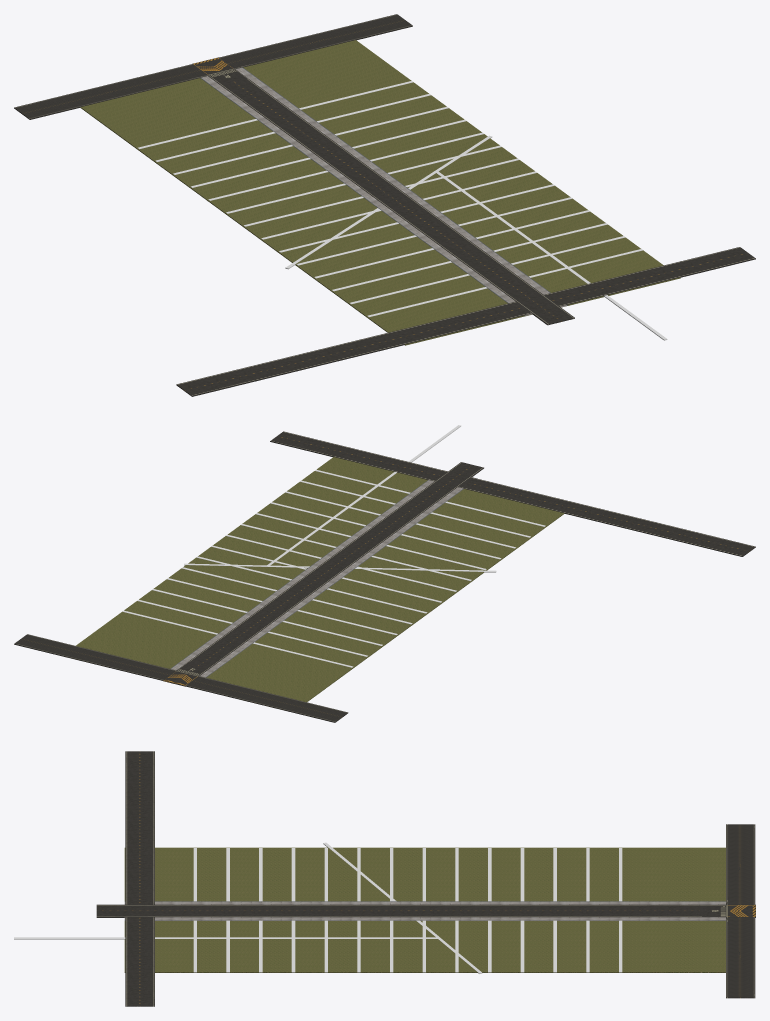
Rendered from M_sceneA-B_airport.fbx.
3 views of the same model, one above another, from view 1: azimuth 30°, elevation 25°; view 2: azimuth 150°, elevation 25°; view 3: azimuth 270°, elevation 25° (orthographic). The views are drawn at different scales.
Visible parts, largest first — view 1: 立方体.003, 立方体, 立方体.010, 立方体.009, 立方体.001, 立方体.007, 立方体.004, 立方体.006, 立方体.005; view 2: 立方体.003, 立方体.010, 立方体, 立方体.009, 立方体.001, 立方体.007, 立方体.004, 立方体.006, 立方体.005; view 3: 立方体.003, 立方体, 立方体.010, 立方体.009, 立方体.001, 立方体.007, 立方体.004, 立方体.006, 立方体.005.
Boxes of the visible parts, x1,y1,x2,y2 form: 立方体.003: [80, 40, 680, 345]; 立方体: [222, 79, 574, 325]; 立方体.010: [176, 247, 755, 396]; 立方体.009: [14, 14, 412, 119]; 立方体.001: [200, 67, 567, 315]; 立方体.007: [138, 119, 487, 317]; 立方体.004: [299, 81, 642, 277]; 立方体.006: [435, 171, 667, 340]; 立方体.005: [285, 135, 492, 269]; 立方体.003: [76, 457, 564, 702]; 立方体.010: [270, 431, 755, 556]; 立方体: [189, 462, 483, 667]; 立方体.009: [14, 634, 348, 722]; 立方体.001: [170, 470, 475, 677]; 立方体.007: [253, 501, 545, 667]; 立方体.004: [122, 469, 410, 634]; 立方体.006: [267, 425, 460, 565]; 立方体.005: [184, 563, 496, 572]; 立方体.003: [124, 847, 725, 972]; 立方体: [96, 904, 699, 917]; 立方体.010: [125, 751, 154, 1006]; 立方体.009: [726, 824, 755, 998]; 立方体.001: [124, 901, 725, 920]; 立方体.007: [193, 848, 622, 901]; 立方体.004: [193, 920, 622, 972]; 立方体.006: [14, 937, 439, 939]; 立方体.005: [323, 842, 482, 973].
Bounding box in the file's own units: 918 × 1.87 × 1130.
